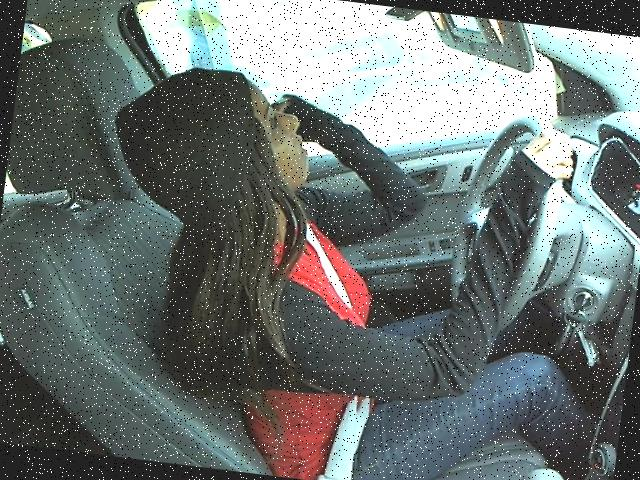c6 - Hair and Makeup: (74, 35, 586, 434)
